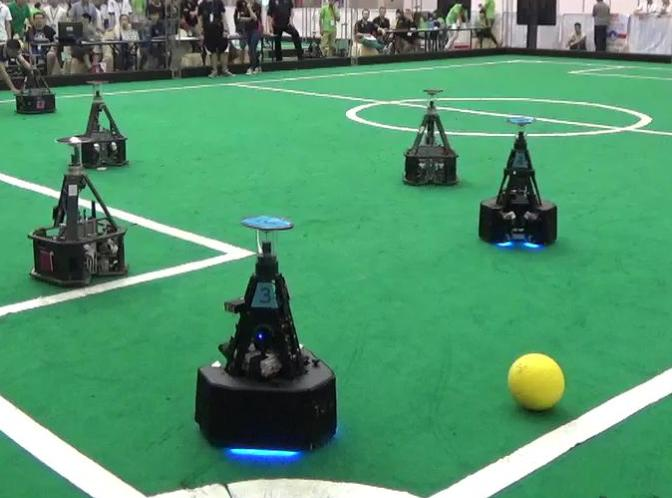robot: (192, 210, 341, 459), (24, 135, 131, 286), (478, 111, 560, 251), (401, 85, 464, 189), (65, 75, 130, 173), (11, 50, 61, 118)
